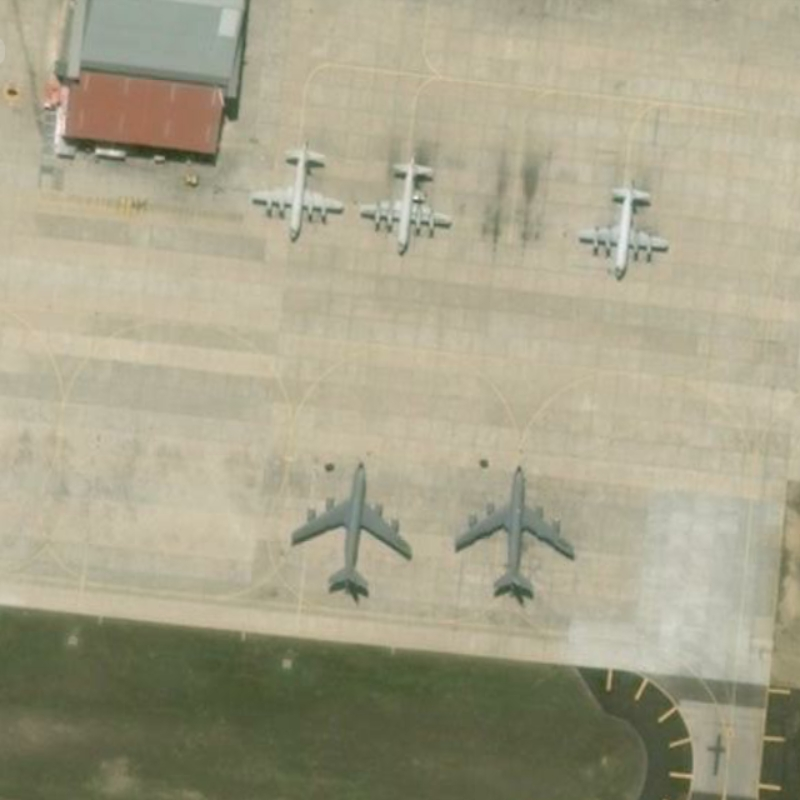A14: (441, 451, 586, 612), (282, 451, 419, 601)
A9: (237, 139, 350, 249), (572, 171, 676, 286), (354, 148, 458, 262)
